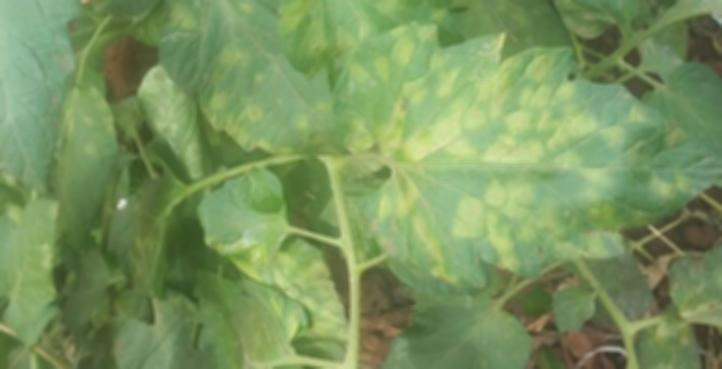Tomato mold leaf: (351, 21, 721, 293), (153, 0, 348, 156), (0, 0, 85, 194), (290, 0, 448, 95), (0, 201, 59, 331)
